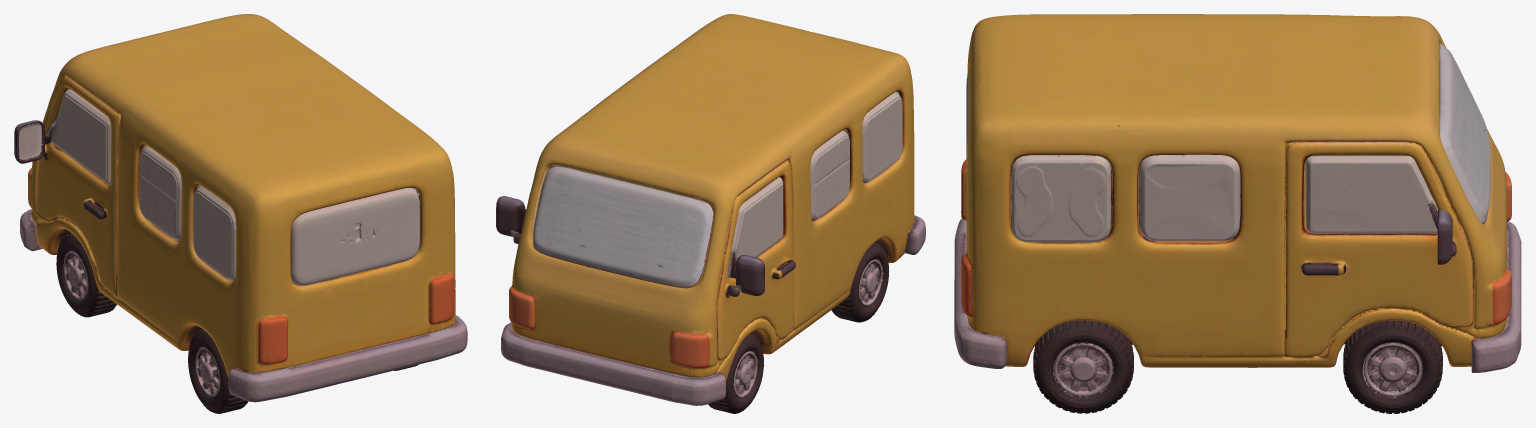
Rendered from van.glb.
3 renders of one model, left to right at view 1: azimuth 30°, elevation 25°; view 2: azimuth 150°, elevation 25°; view 3: azimuth 270°, elevation 25°, orthographic. The views are drawn at different scales.
Visible parts, largest first — view 1: tripo_part_0, tripo_part_6, tripo_part_8, tripo_part_10, tripo_part_14, tripo_part_13, tripo_part_4, tripo_part_3, tripo_part_5; view 2: tripo_part_0, tripo_part_2, tripo_part_5, tripo_part_10, tripo_part_14, tripo_part_13, tripo_part_3, tripo_part_4, tripo_part_9, tripo_part_8; view 3: tripo_part_0, tripo_part_9, tripo_part_11, tripo_part_12, tripo_part_7, tripo_part_1, tripo_part_2, tripo_part_5, tripo_part_8.
Part boxes in pixels (bbox=[...]): tripo_part_0: bbox=[28, 14, 455, 377]; tripo_part_6: bbox=[290, 188, 419, 285]; tripo_part_8: bbox=[228, 315, 467, 402]; tripo_part_10: bbox=[14, 89, 111, 184]; tripo_part_14: bbox=[193, 185, 236, 281]; tripo_part_13: bbox=[139, 145, 181, 241]; tripo_part_4: bbox=[56, 233, 116, 317]; tripo_part_3: bbox=[188, 329, 248, 413]; tripo_part_5: bbox=[20, 209, 42, 251]; tripo_part_0: bbox=[509, 14, 914, 380]; tripo_part_2: bbox=[532, 166, 713, 288]; tripo_part_5: bbox=[501, 322, 725, 405]; tripo_part_10: bbox=[728, 177, 783, 295]; tripo_part_14: bbox=[862, 92, 902, 183]; tripo_part_13: bbox=[810, 130, 849, 221]; tripo_part_3: bbox=[831, 242, 888, 322]; tripo_part_4: bbox=[708, 334, 763, 413]; tripo_part_9: bbox=[496, 196, 526, 236]; tripo_part_8: bbox=[904, 215, 925, 254]; tripo_part_0: bbox=[961, 14, 1511, 367]; tripo_part_9: bbox=[1306, 155, 1452, 264]; tripo_part_11: bbox=[1138, 154, 1239, 241]; tripo_part_12: bbox=[1011, 155, 1110, 242]; tripo_part_7: bbox=[1033, 320, 1133, 413]; tripo_part_1: bbox=[1343, 320, 1442, 413]; tripo_part_2: bbox=[1439, 43, 1490, 223]; tripo_part_5: bbox=[1471, 221, 1521, 372]; tripo_part_8: bbox=[954, 218, 1007, 368].
Bounding box in the file's own units: 0.672 × 0.5749 × 1.
15 materials, 15 textured.
